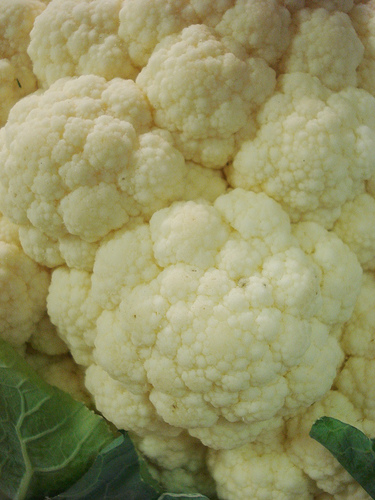cauliflower: (0, 0, 373, 498)
